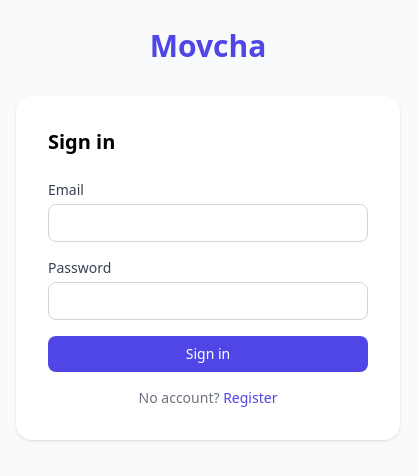
Test: Login page › shows error message on failed login
Type "bad@test.com" into the field labelled "Email".
click(208, 223); type("bad@test.com")  # box [48,204,368,242]
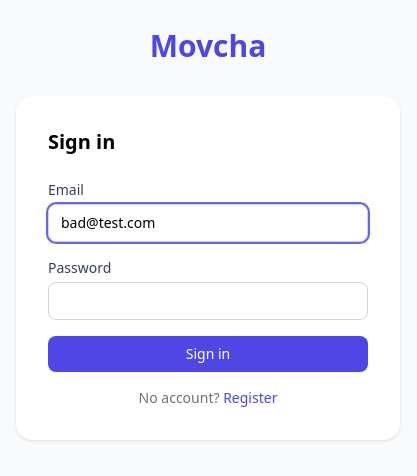
Type "wrongpass" into the password field labelled "Password".
click(208, 301); type("wrongpass")  # box [48,282,368,320]
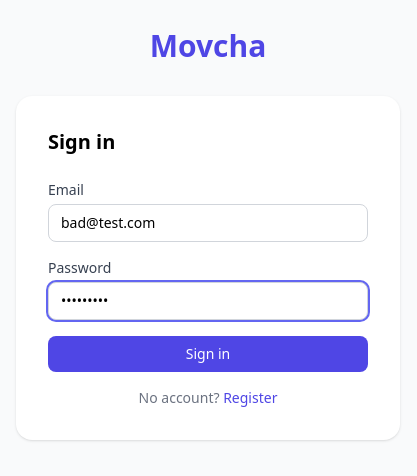
Click the button "Sign in".
click(208, 354)  # box [48,336,368,372]
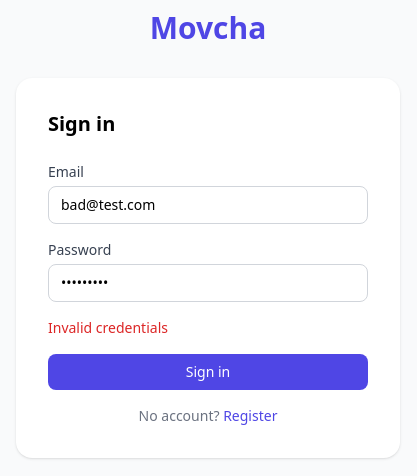
Expected: the text "Invalid credentials" is shown, [48,318,168,337]
